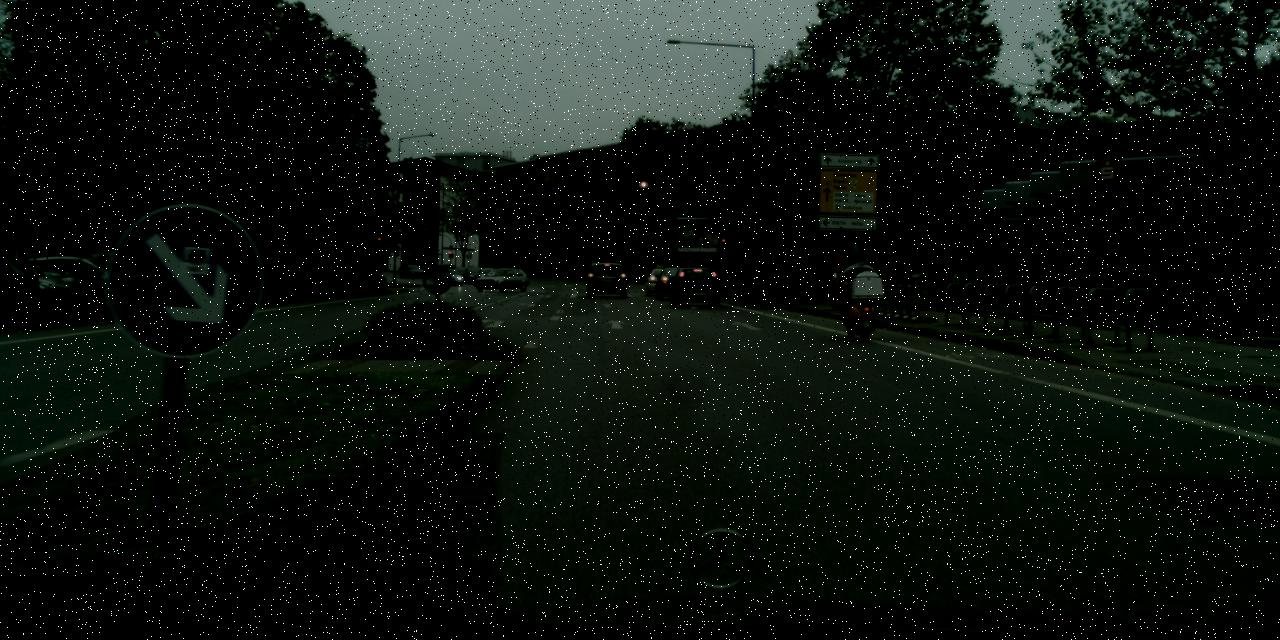ped: (842, 250, 872, 324), (951, 267, 965, 302), (684, 262, 695, 290), (674, 264, 685, 290)
